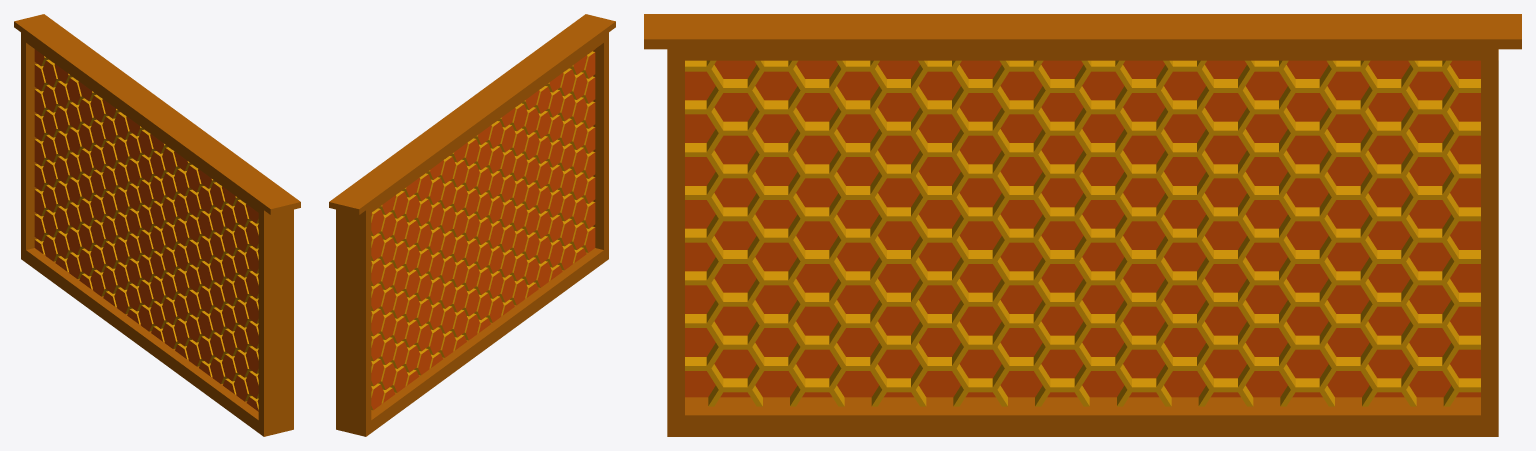
The model's file is BeeFrameNew.fbx.
3 renders of one model, left to right at view 1: azimuth 30°, elevation 25°; view 2: azimuth 150°, elevation 25°; view 3: azimuth 270°, elevation 25°, orthographic. The views are drawn at different scales.
Parts seen in each view (by area): view 1: BeeFrameNew; view 2: BeeFrameNew; view 3: BeeFrameNew.
Part boxes in pixels (left/top/right/bottom): BeeFrameNew: left=14, top=14, right=300, bottom=436; BeeFrameNew: left=329, top=14, right=615, bottom=436; BeeFrameNew: left=644, top=14, right=1521, bottom=436.
Bounding box in the file's own units: 6.45 × 47.5 × 95.
